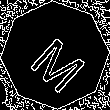M_NE: (21, 21, 89, 89)
